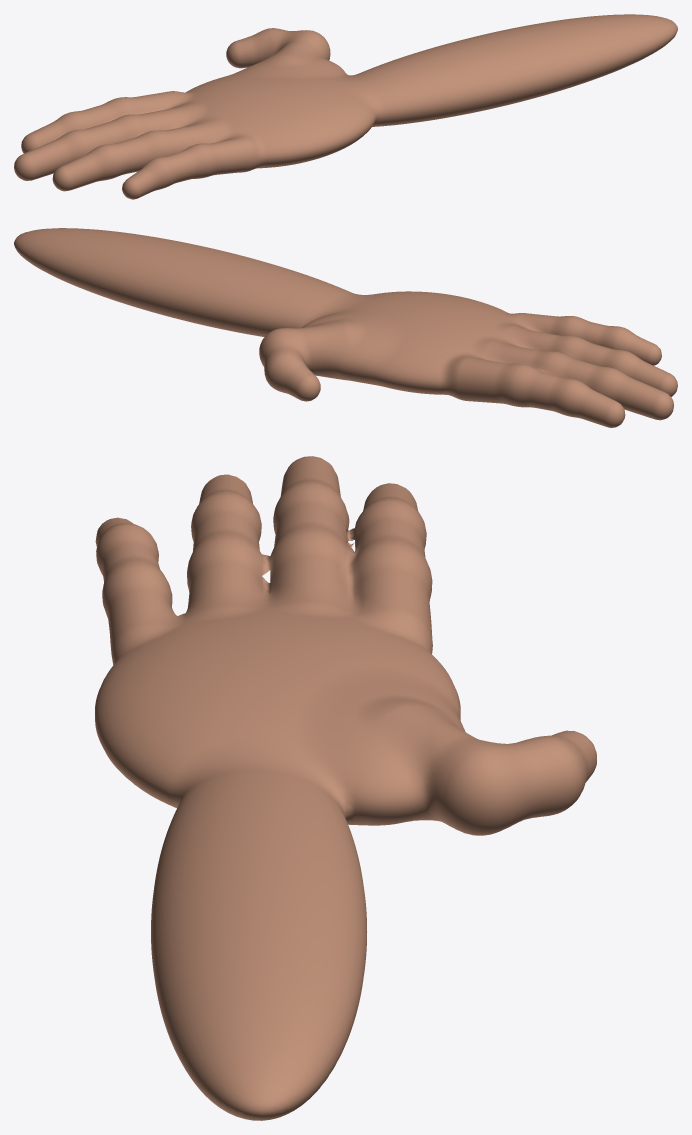
Rendered from project-soap-hand.glb.
3 renders of one model, top to bottom at view 1: azimuth 30°, elevation 25°; view 2: azimuth 150°, elevation 25°; view 3: azimuth 270°, elevation 25°, orthographic. The views are drawn at different scales.
Parts seen in each view (by area): view 1: soap-hand-arm-skin, soap-hand-palm-skin, soap-hand-ring-skin, soap-hand-middle-skin, soap-hand-little-skin, soap-hand-index-skin, soap-hand-thumb-skin; view 2: soap-hand-arm-skin, soap-hand-palm-skin, soap-hand-index-skin, soap-hand-middle-skin, soap-hand-thumb-skin, soap-hand-ring-skin, soap-hand-little-skin; view 3: soap-hand-arm-skin, soap-hand-palm-skin, soap-hand-thumb-skin, soap-hand-middle-skin, soap-hand-index-skin, soap-hand-ring-skin, soap-hand-little-skin.
Part boxes in pixels (<box>): soap-hand-arm-skin: <box>346,14,677,126</box>; soap-hand-palm-skin: <box>171,54,379,168</box>; soap-hand-ring-skin: <box>52,120,221,191</box>; soap-hand-middle-skin: <box>14,103,197,180</box>; soap-hand-little-skin: <box>122,135,260,199</box>; soap-hand-index-skin: <box>21,91,186,153</box>; soap-hand-thumb-skin: <box>226,28,330,68</box>; soap-hand-arm-skin: <box>14,228,360,336</box>; soap-hand-palm-skin: <box>302,291,531,395</box>; soap-hand-index-skin: <box>446,355,625,427</box>; soap-hand-middle-skin: <box>481,340,673,420</box>; soap-hand-thumb-skin: <box>259,321,355,401</box>; soap-hand-ring-skin: <box>506,325,677,396</box>; soap-hand-little-skin: <box>512,313,661,365</box>; soap-hand-arm-skin: <box>151,756,366,1120</box>; soap-hand-palm-skin: <box>95,596,465,825</box>; soap-hand-thumb-skin: <box>380,700,596,835</box>; soap-hand-middle-skin: <box>262,456,354,609</box>; soap-hand-index-skin: <box>347,483,432,653</box>; soap-hand-ring-skin: <box>183,474,269,614</box>; soap-hand-little-skin: <box>95,517,177,664</box>.
Size of the model in its own units: 318 by 27.25 by 107.
